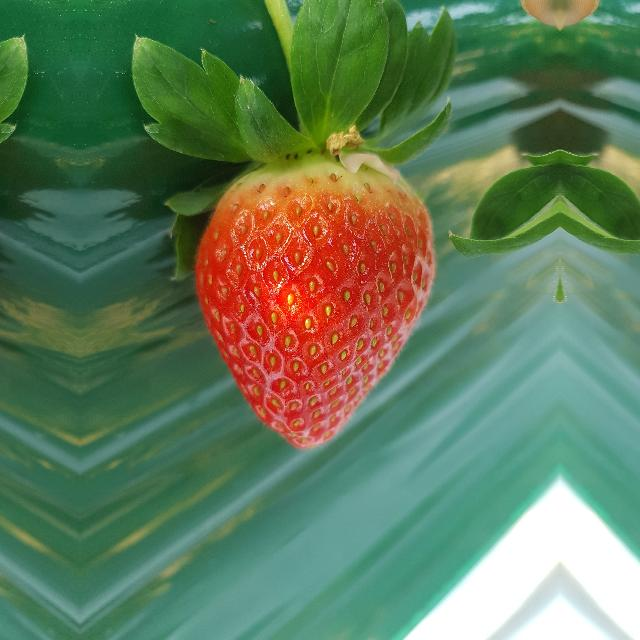Health_100: (193, 152, 437, 450)
